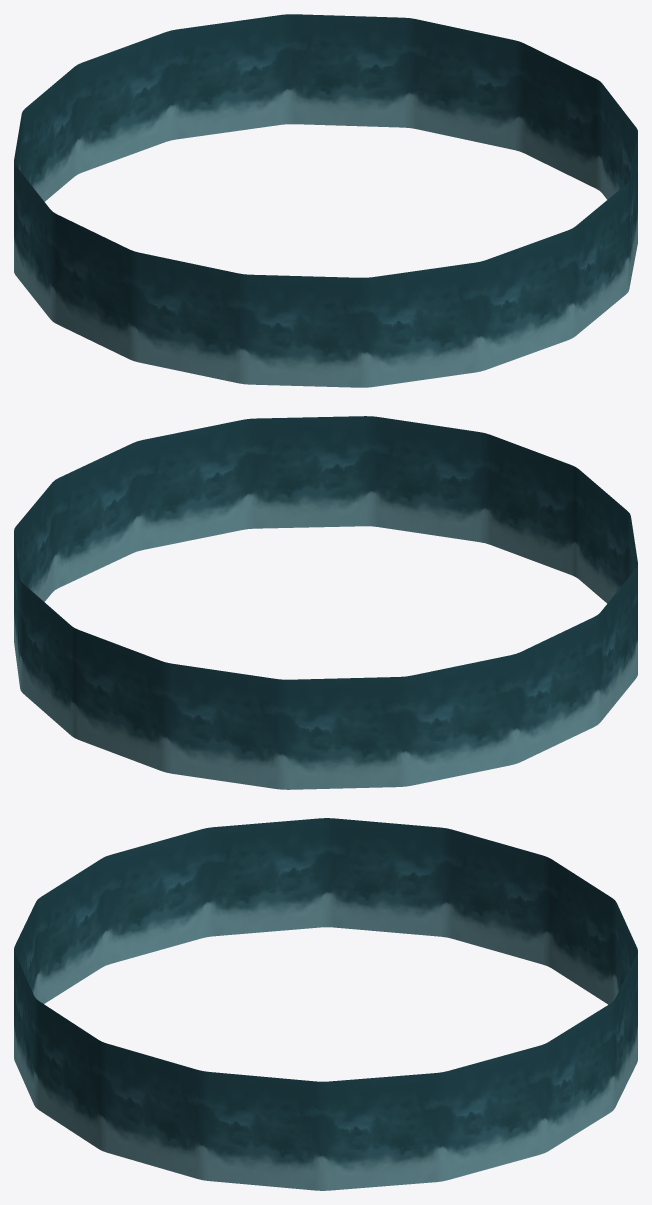
Rendered from sky_01.gltf.
3 views of the same model, one above another, from view 1: azimuth 30°, elevation 25°; view 2: azimuth 150°, elevation 25°; view 3: azimuth 270°, elevation 25° (orthographic).
Visible parts, largest first — view 1: Sky_01; view 2: Sky_01; view 3: Sky_01.
Part boxes in pixels (x1,y1,x2,y2): Sky_01: (14,14,637,387); Sky_01: (14,416,637,789); Sky_01: (14,818,637,1190).
Bounding box in the file's own units: 77.04 × 14.87 × 77.04.
1 material, 1 textured.
